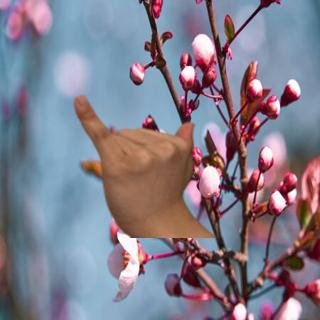HAVE: (66, 92, 213, 240)
